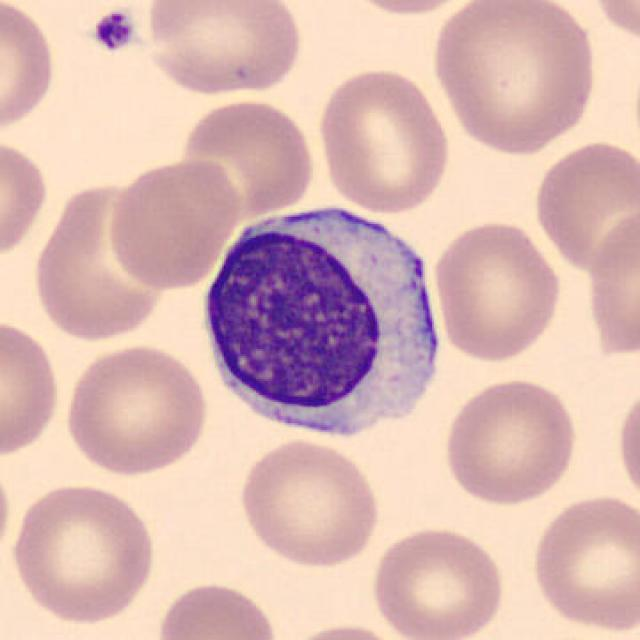Lymphocyte: (192, 196, 453, 448)
Platelets: (89, 7, 139, 56)
RBC: (427, 0, 601, 157), (29, 174, 172, 346), (7, 479, 160, 626), (60, 340, 212, 478), (315, 64, 453, 215), (428, 217, 566, 363), (235, 436, 384, 570), (103, 153, 244, 291), (439, 374, 581, 508), (176, 96, 318, 220), (367, 523, 508, 640), (526, 488, 638, 635), (140, 0, 306, 99), (528, 136, 638, 273), (0, 312, 64, 462), (582, 201, 638, 363), (153, 576, 283, 640), (0, 0, 58, 139), (0, 134, 52, 266), (614, 377, 638, 513), (329, 0, 491, 18), (275, 620, 412, 640), (585, 0, 640, 48), (0, 450, 14, 580)
